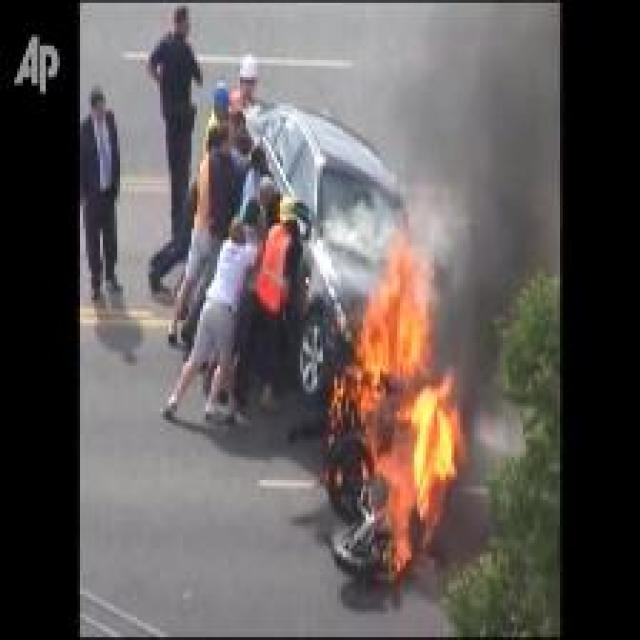Fire: (329, 232, 462, 572)
